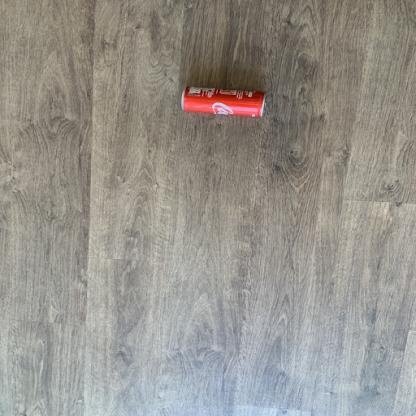trash: (181, 87, 264, 116)
